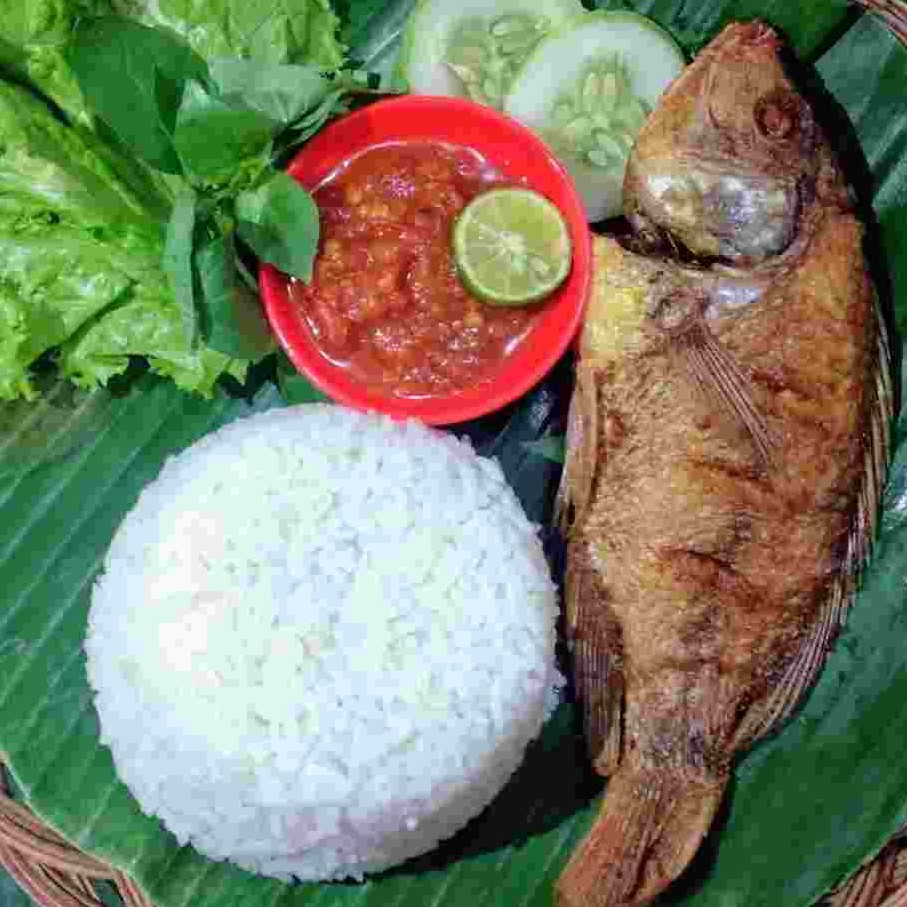buah_sayur_lainnya: (20, 3, 232, 318), (450, 5, 613, 112)
buah_sayur_vitA: (318, 159, 512, 379)
daging: (638, 183, 793, 625)
makanan_berpati: (204, 443, 438, 826)
